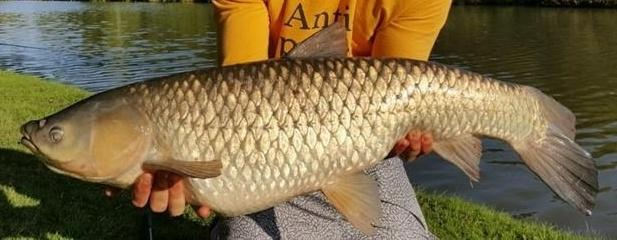Grass Carp: (20, 15, 600, 236)
